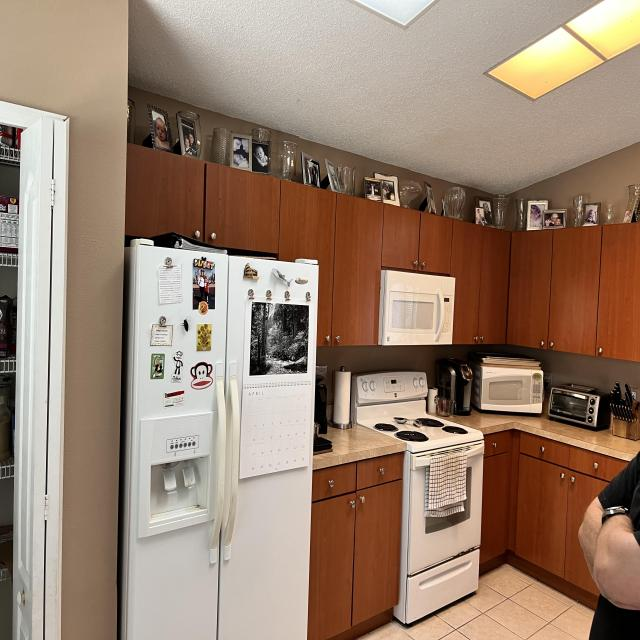Appliance_Fridge: (117, 234, 319, 640)
Appliance_Microwave: (378, 269, 456, 347)
Appliance_Oven: (355, 371, 485, 626)
Cabinet_Flat: (130, 144, 640, 363), (481, 431, 629, 594), (308, 453, 404, 640)
Countertop_Laminate: (447, 411, 637, 461), (313, 424, 405, 469)
